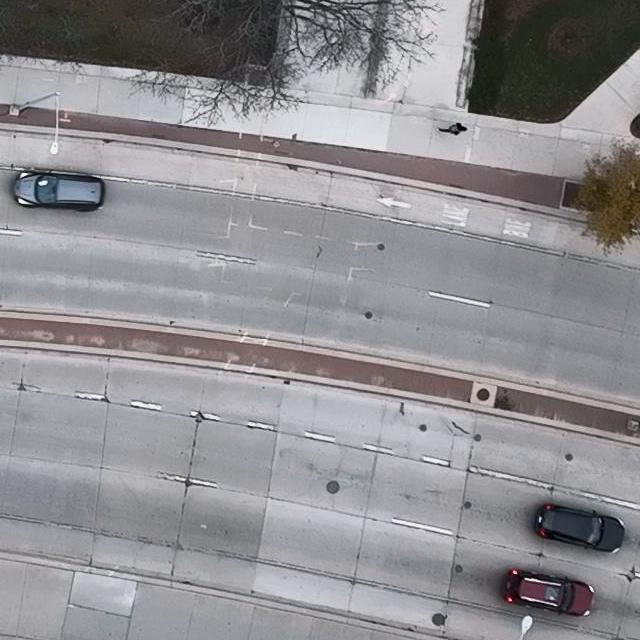car: (500, 568, 595, 618), (534, 503, 626, 554), (14, 169, 106, 212)
